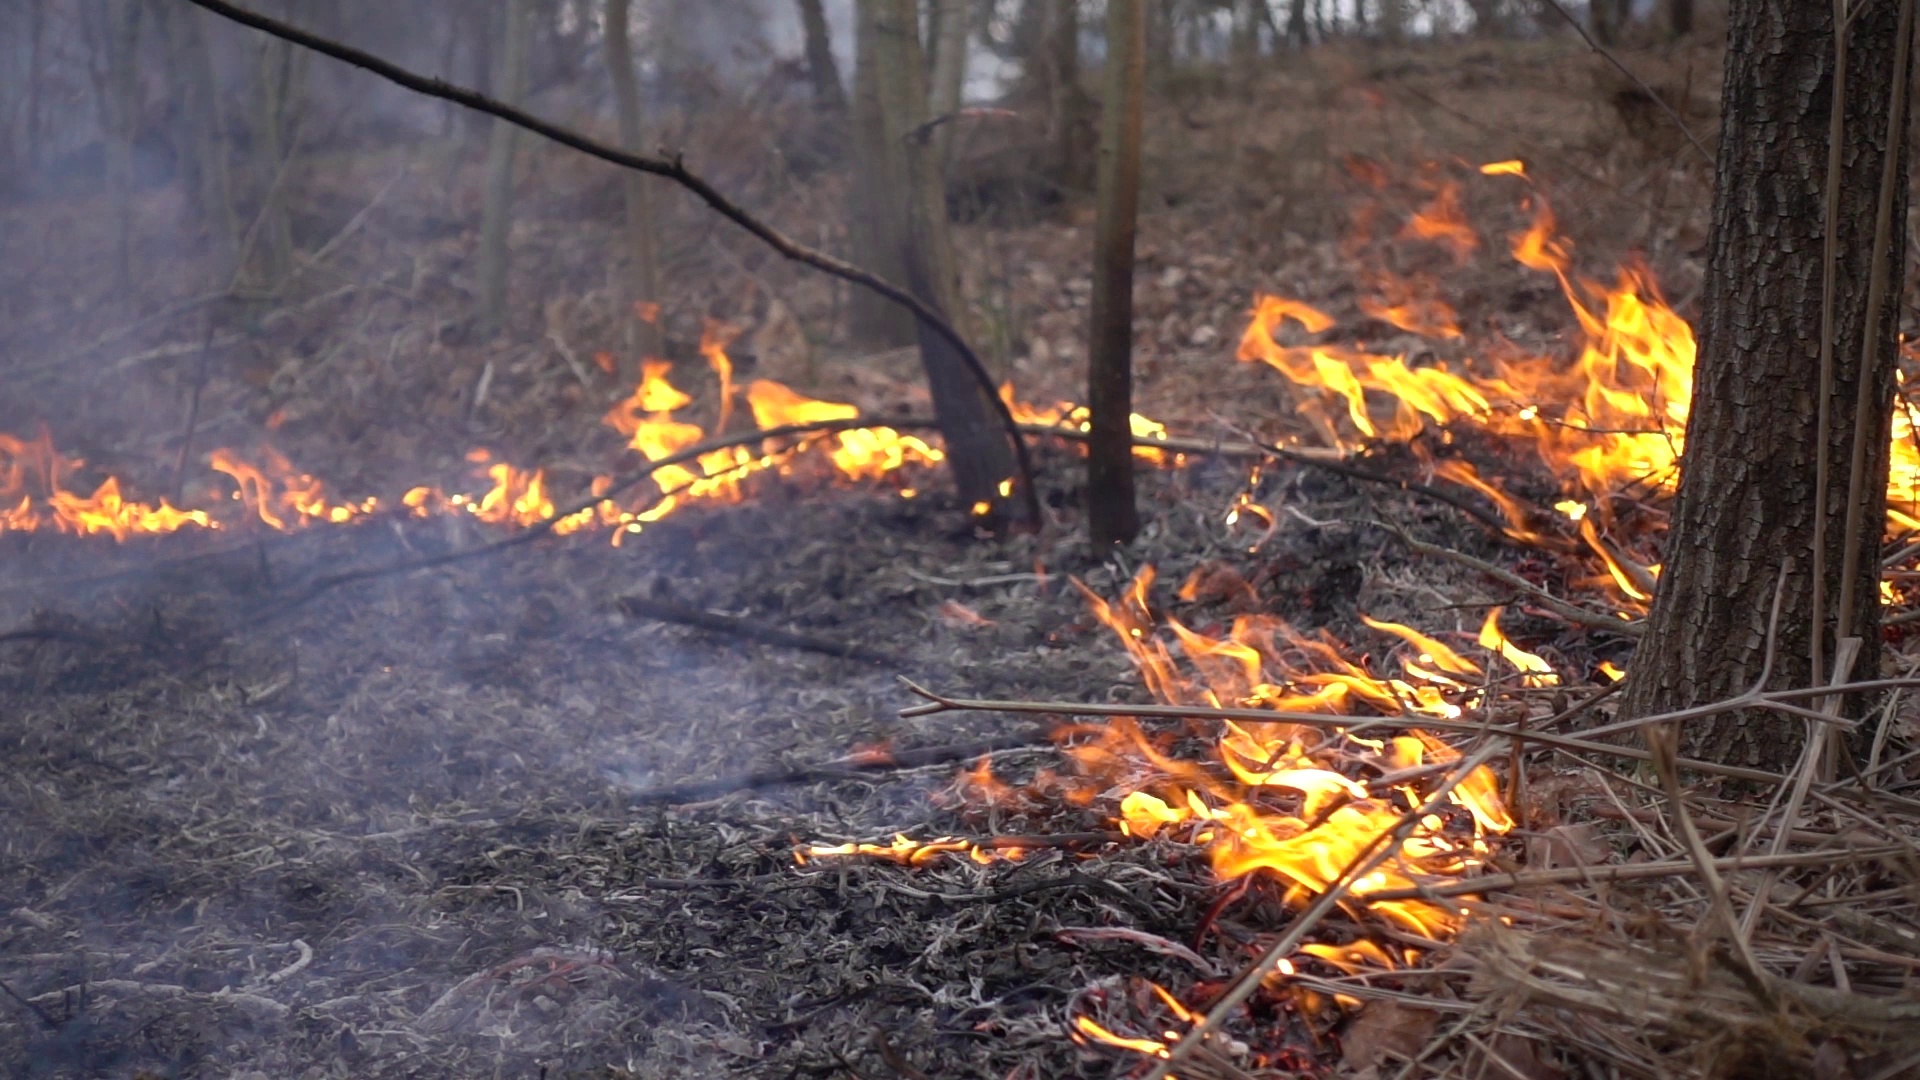fire: (1246, 185, 1693, 495), (1112, 620, 1507, 960), (615, 352, 928, 493), (1, 446, 190, 533), (206, 452, 364, 521), (477, 459, 551, 520), (1894, 407, 1916, 524)
